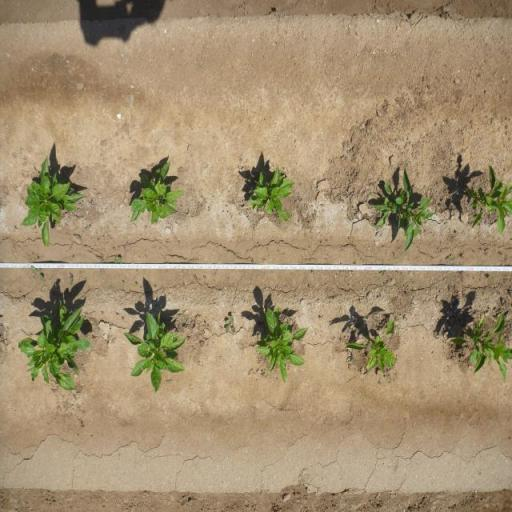plant: (16, 298, 94, 392), (366, 164, 437, 253), (20, 154, 82, 252), (122, 307, 189, 396), (450, 306, 512, 384), (250, 304, 308, 386), (127, 157, 186, 228), (461, 160, 512, 238), (344, 317, 403, 377), (246, 161, 295, 225)
weed: (30, 264, 44, 282), (224, 313, 236, 334), (444, 252, 456, 262), (378, 269, 388, 279), (68, 271, 74, 287), (113, 255, 122, 264), (351, 354, 356, 364), (199, 339, 205, 347), (84, 224, 91, 230)
